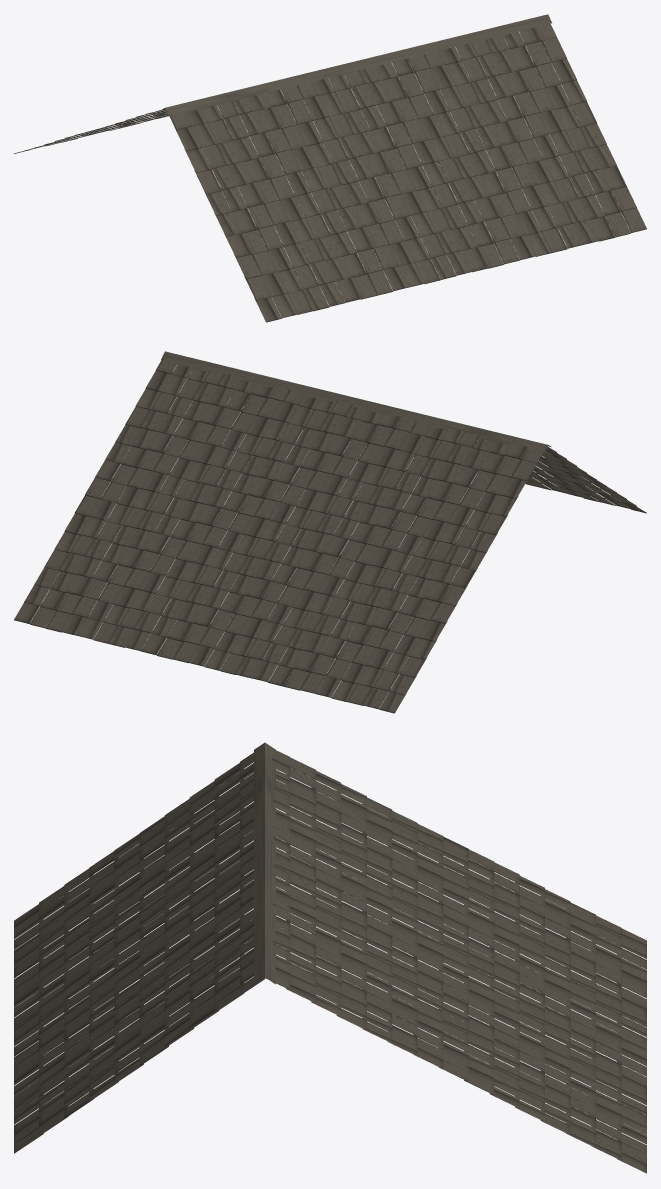
File: BW_FamilyCottageB01_Shingles.fbx
The picture shows the model from 3 angles, top to bottom: view 1: azimuth 30°, elevation 25°; view 2: azimuth 150°, elevation 25°; view 3: azimuth 270°, elevation 25°; orthographic projection. The views are drawn at different scales.
Visible parts, largest first — view 1: BW_FamilyCottageB01_Shingles; view 2: BW_FamilyCottageB01_Shingles; view 3: BW_FamilyCottageB01_Shingles.
Part boxes in pixels (bbox=[...]): BW_FamilyCottageB01_Shingles: bbox=[14, 14, 646, 322]; BW_FamilyCottageB01_Shingles: bbox=[14, 351, 646, 713]; BW_FamilyCottageB01_Shingles: bbox=[14, 742, 646, 1173].
Bounding box in the file's own units: 7.64 × 3.01 × 8.7.
